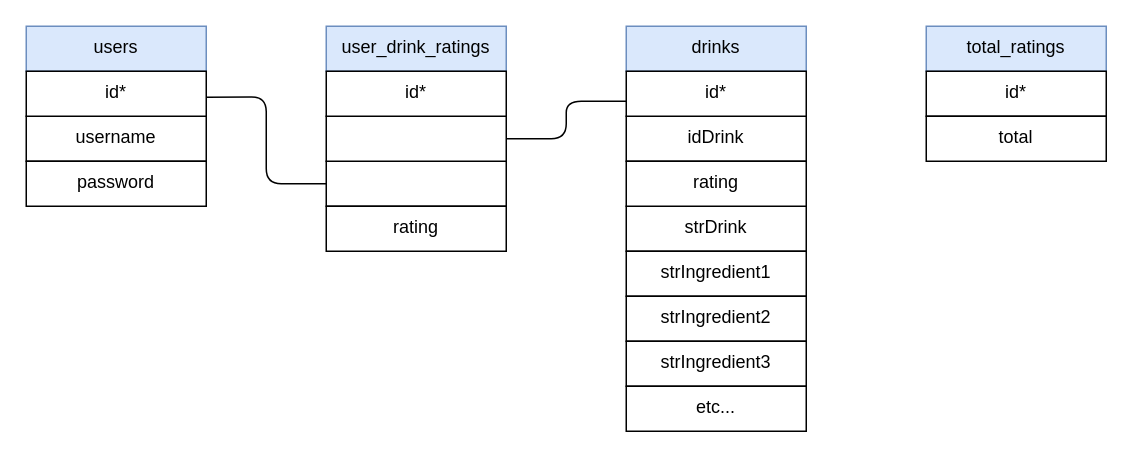
This 1133x458 diagram has some shape labels left out. Here are the shapes that lost their labels. From the top down, the box of each, then its label:
(325, 115, 506, 161): drink_id
(325, 160, 506, 206): user_id
